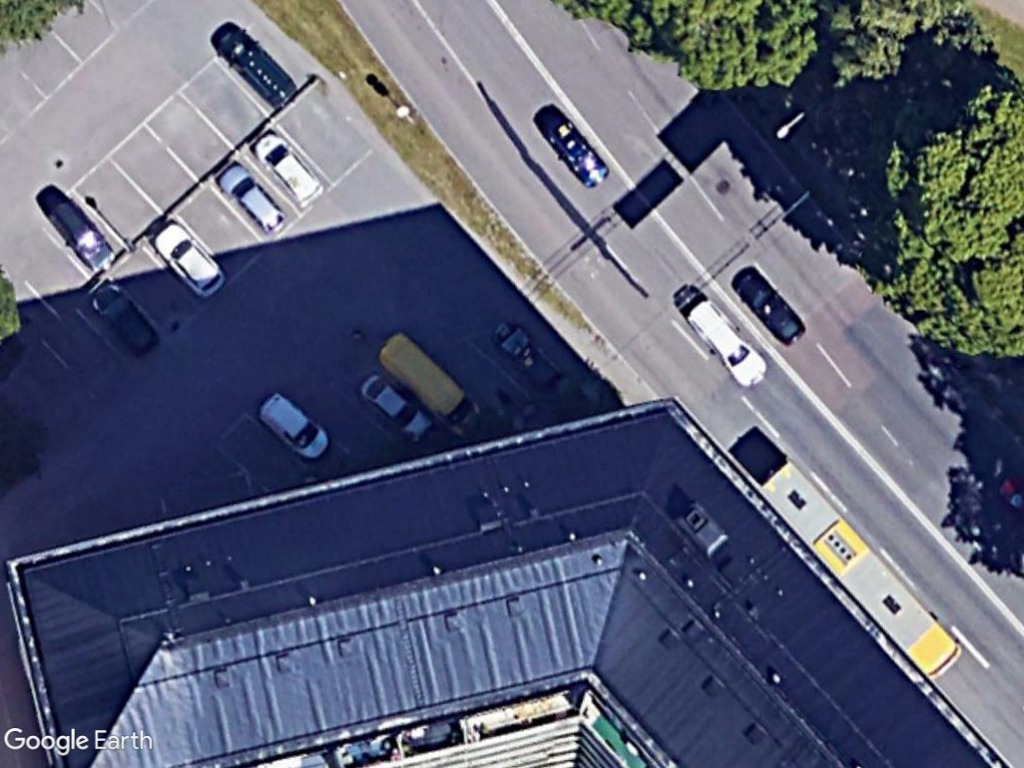bus: (753, 457, 967, 689)
car: (687, 294, 772, 391), (150, 220, 228, 300), (251, 131, 328, 212), (355, 371, 437, 447), (87, 282, 167, 359), (735, 266, 809, 349), (216, 161, 292, 239), (45, 197, 121, 275)
van: (376, 334, 488, 441), (214, 25, 303, 111), (258, 391, 334, 464)
